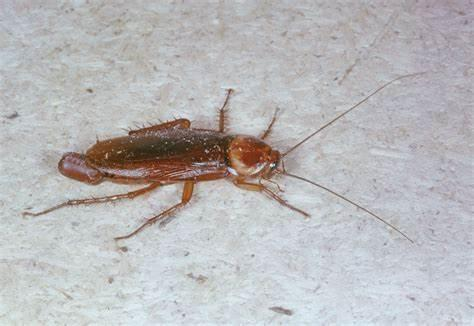cockroach: (86, 113, 299, 203)
